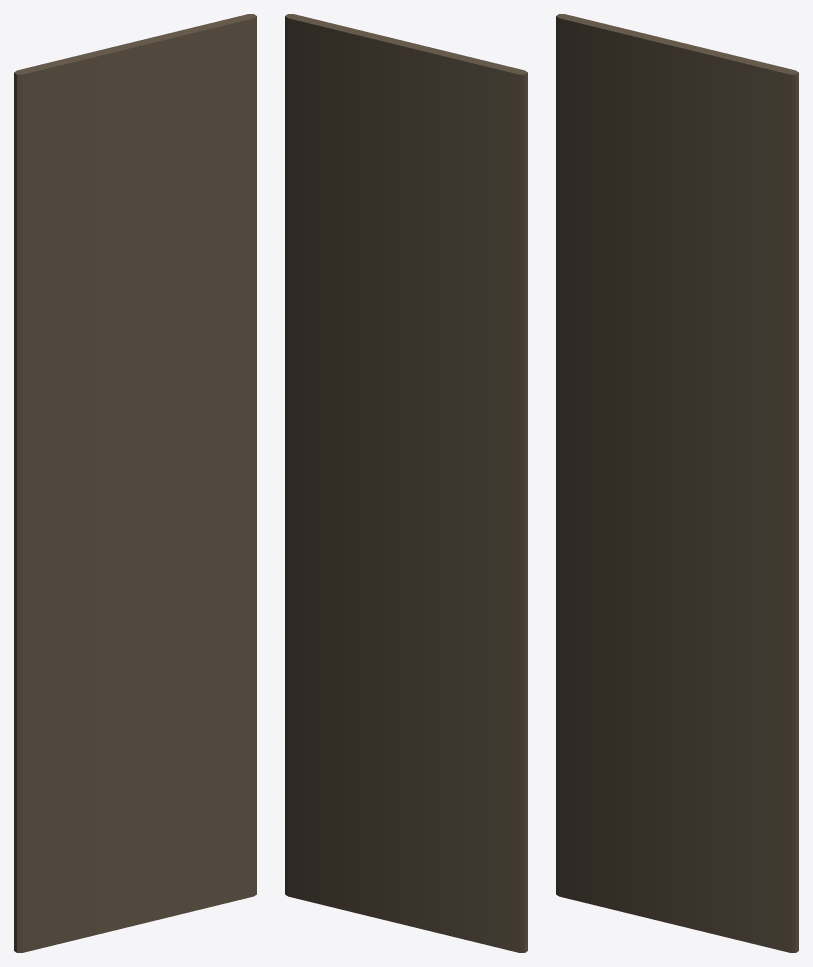
File: TrimFeature_MetalTrim_Straight.FBX
The picture shows the model from 3 angles, left to right: view 1: azimuth 30°, elevation 25°; view 2: azimuth 150°, elevation 25°; view 3: azimuth 330°, elevation 25°; orthographic projection.
Visible parts, largest first — view 1: TrimFeature_MetalTrim_Straight; view 2: TrimFeature_MetalTrim_Straight; view 3: TrimFeature_MetalTrim_Straight.
Part boxes in pixels (x1,y1,x2,y2): TrimFeature_MetalTrim_Straight: [14, 14, 256, 952]; TrimFeature_MetalTrim_Straight: [285, 14, 527, 952]; TrimFeature_MetalTrim_Straight: [556, 14, 798, 952].
Size of the model in its own units: 57.21 by 2.35 by 200.
